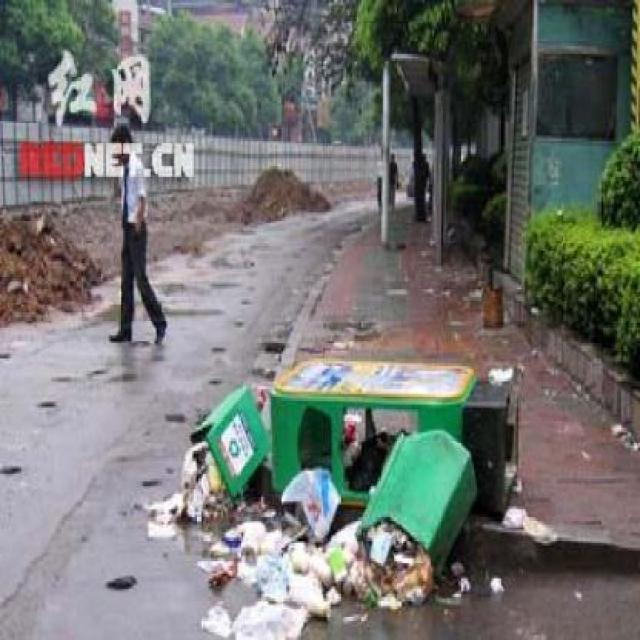garbage: (243, 511, 424, 608), (168, 432, 220, 524)
